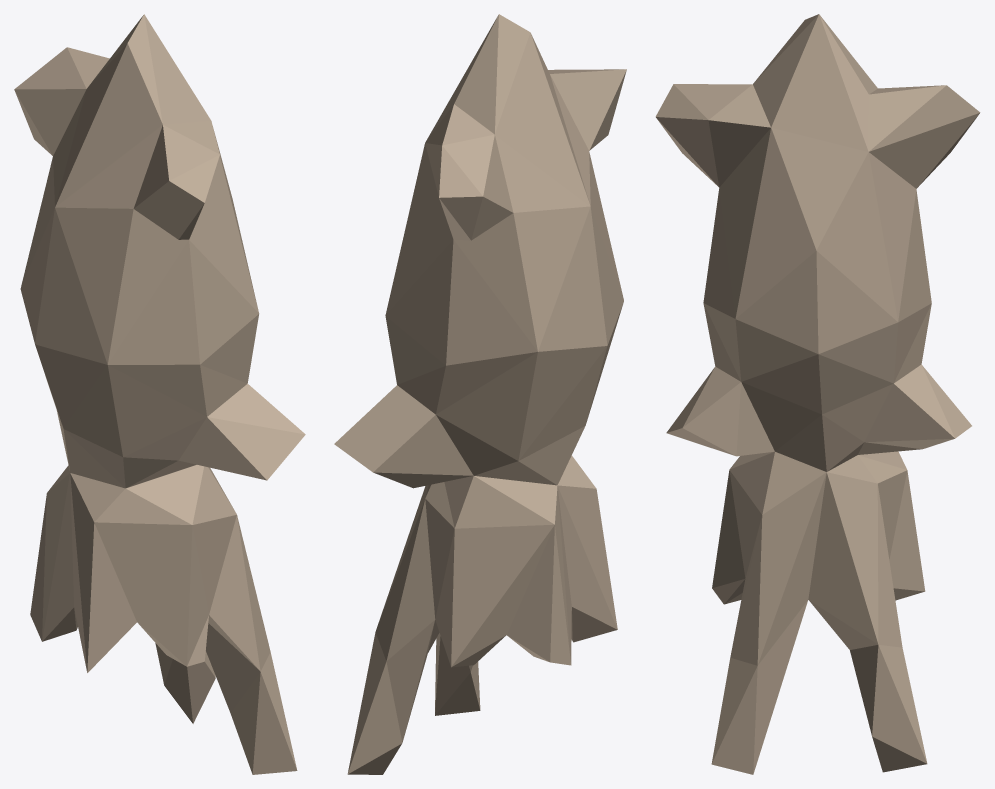
3 renders of one model, left to right at view 1: azimuth 30°, elevation 25°; view 2: azimuth 150°, elevation 25°; view 3: azimuth 270°, elevation 25°, orthographic. The views are drawn at different scales.
Parts seen in each view (by area): view 1: part0; view 2: part0; view 3: part0.
Boxes of the visible parts, left/top/right/bottom form: part0: left=14, top=14, right=305, bottom=774; part0: left=334, top=14, right=626, bottom=774; part0: left=655, top=14, right=980, bottom=774.
Bounding box in the file's own units: 2.95 × 10.22 × 4.18.
